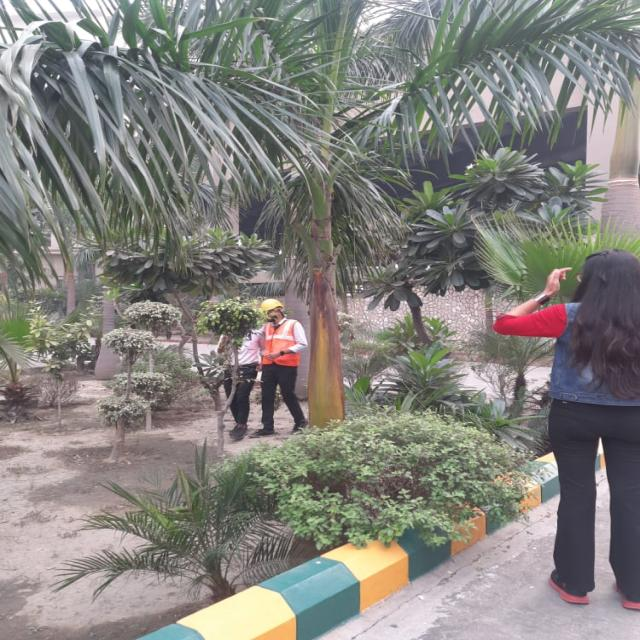safe: (257, 296, 309, 436)
unsafe: (533, 249, 640, 620)
